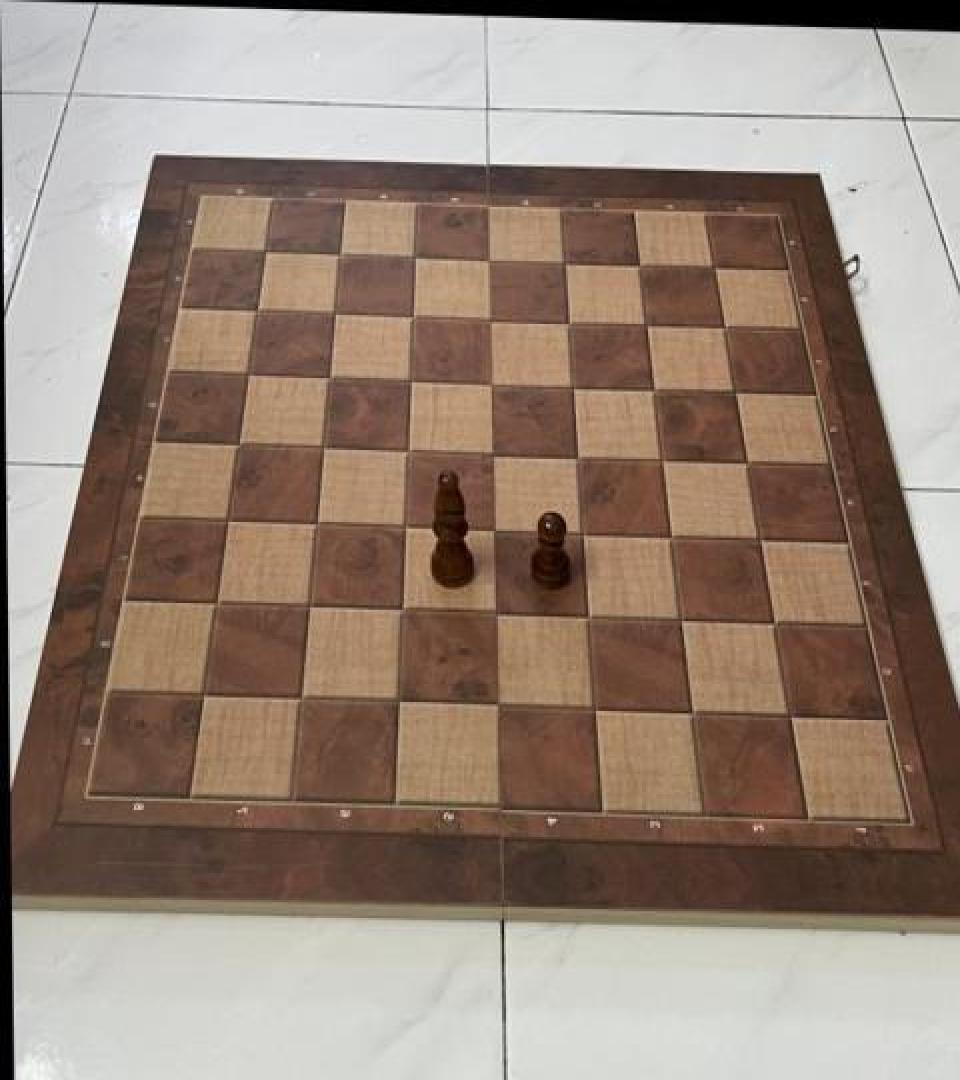xcorner: (398, 237, 432, 276), (240, 290, 274, 329), (232, 353, 266, 392), (560, 436, 594, 475), (212, 499, 246, 538), (481, 686, 515, 725), (249, 231, 283, 269), (323, 234, 357, 272), (472, 240, 506, 278), (546, 243, 580, 281), (621, 246, 655, 284), (695, 249, 729, 287), (318, 292, 352, 330), (396, 296, 430, 334), (473, 300, 507, 338), (551, 302, 585, 340), (628, 305, 662, 343), (705, 308, 739, 346), (313, 357, 347, 395), (394, 360, 428, 398), (474, 364, 508, 402), (555, 366, 589, 404), (636, 369, 670, 407), (716, 372, 750, 410), (222, 423, 256, 461), (307, 426, 341, 464), (391, 430, 425, 468), (476, 433, 510, 471), (644, 439, 678, 477), (729, 442, 763, 480), (300, 503, 334, 541), (389, 506, 423, 544), (477, 510, 511, 548), (566, 513, 600, 551), (654, 516, 688, 554), (742, 520, 776, 558), (200, 583, 234, 621), (293, 586, 327, 624), (386, 590, 420, 628), (479, 593, 513, 631), (572, 596, 606, 634), (664, 600, 698, 638), (757, 603, 791, 641), (187, 675, 221, 713), (285, 678, 319, 716), (383, 683, 417, 721), (578, 690, 612, 728), (676, 693, 710, 731), (773, 696, 807, 734)
